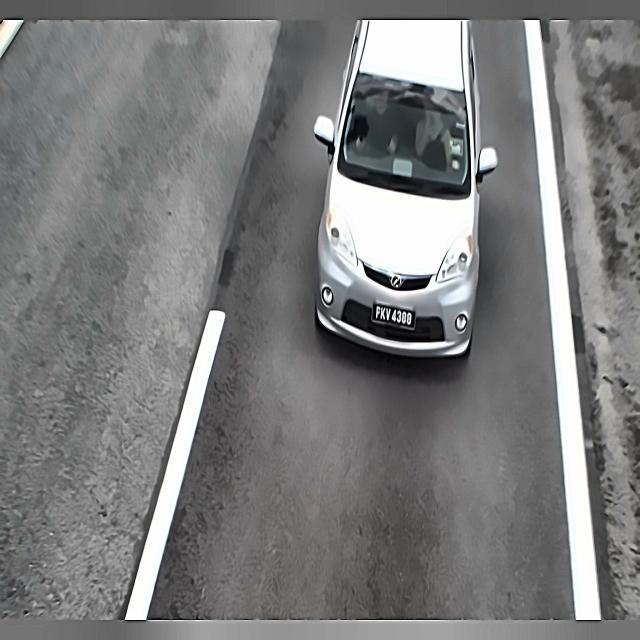car: (368, 295, 422, 337)
